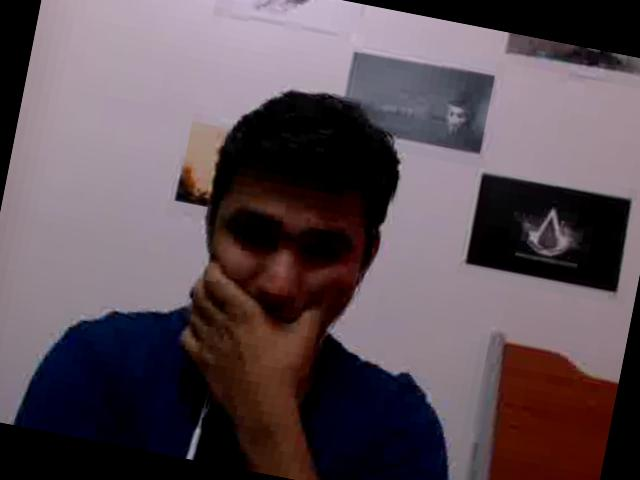bosan: (184, 154, 366, 358)
